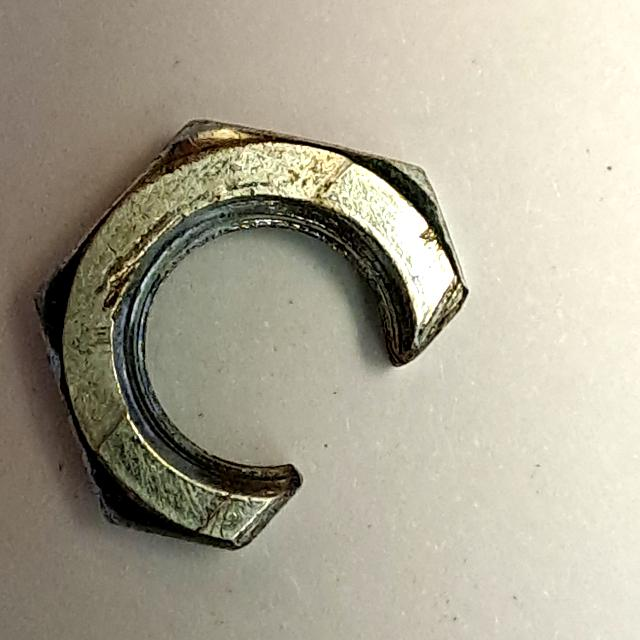Fracture: (19, 106, 488, 564)
